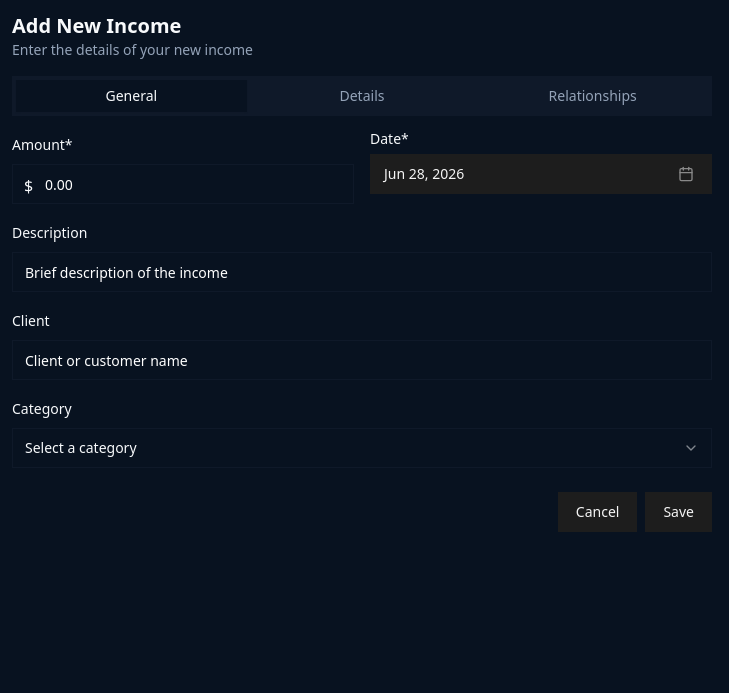
IncomeForm – selecting a quote auto-fills the client field › fills the client field with clientName when a quote is selected
Expected: the field with placeholder "Client or customer name" is empty, [12,340,712,380]
Click the tab "Relationships" at (593, 96), box [477,80,708,112]
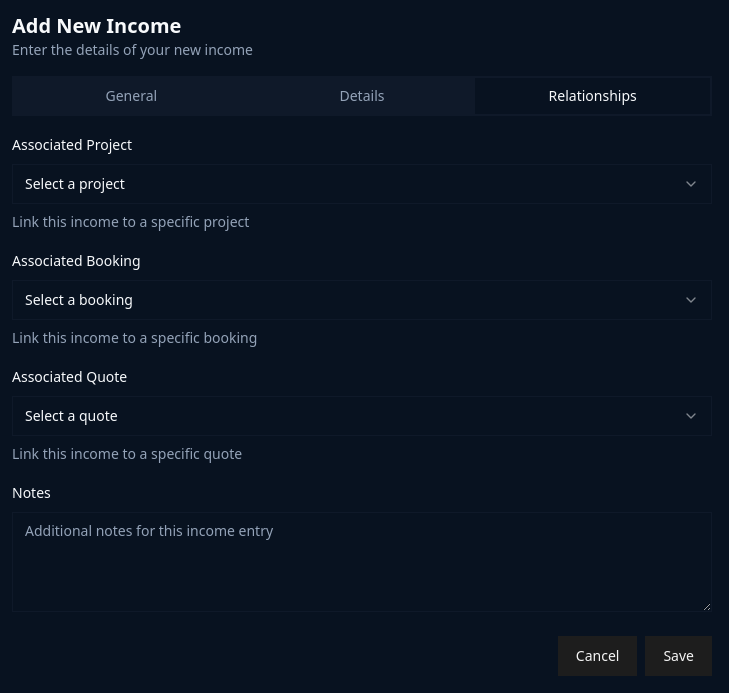
Click the dropdown labelled "Select a quote" at (71, 416), box [12,396,712,436]
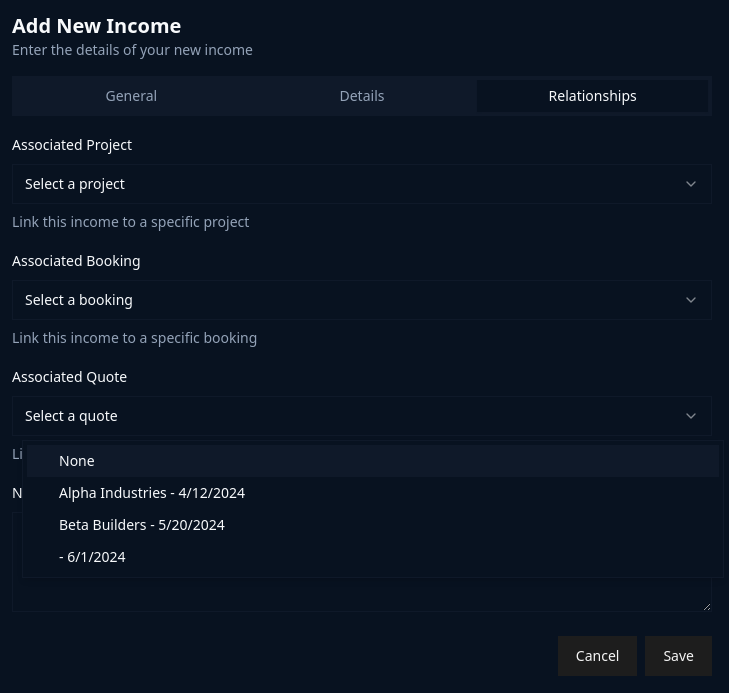
Click the option "Alpha Industries - 4/12/2024" at (152, 492), box [59,483,245,502]
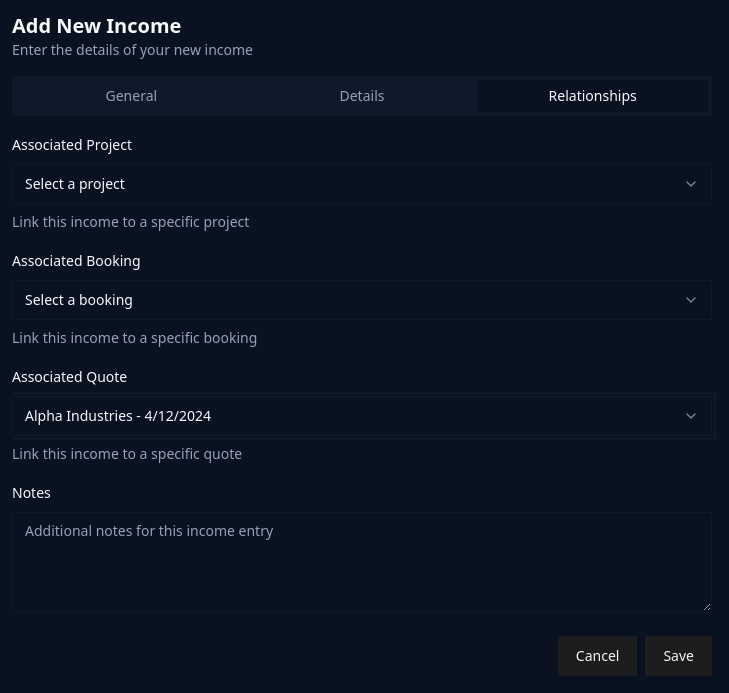
Click the tab "General" at (131, 96), box [16,80,247,112]
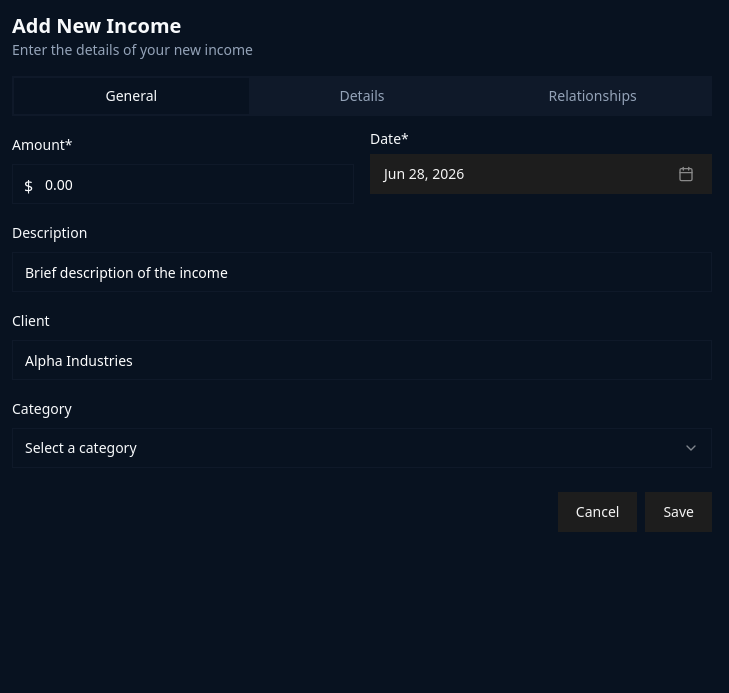
Expected: the field with placeholder "Client or customer name" holds "Alpha Industries", [12,340,712,380]
